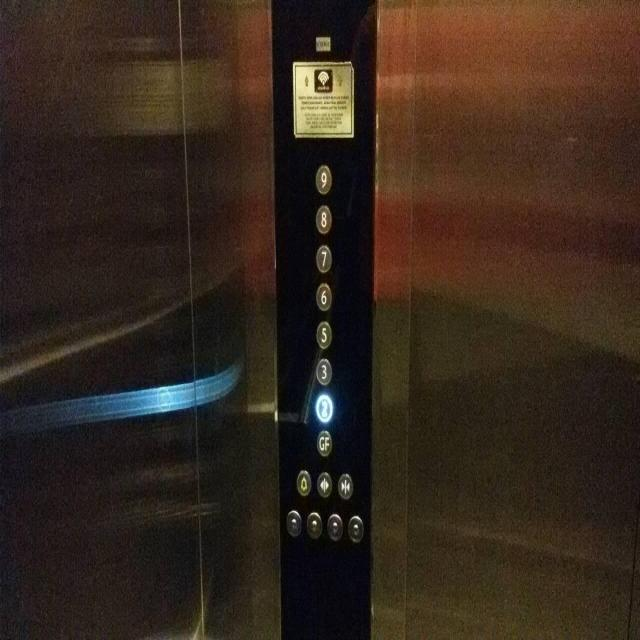2: (315, 394, 333, 422)
3: (315, 356, 331, 385)
5: (315, 318, 331, 349)
6: (315, 283, 331, 313)
7: (315, 245, 331, 274)
8: (315, 204, 332, 234)
9: (314, 164, 332, 196)
GF: (316, 426, 332, 457)
alarm: (296, 467, 311, 496)
close: (337, 473, 352, 499)
empty: (346, 513, 364, 545), (306, 510, 322, 542), (327, 513, 343, 541), (286, 508, 300, 536)
open: (316, 470, 332, 498)
